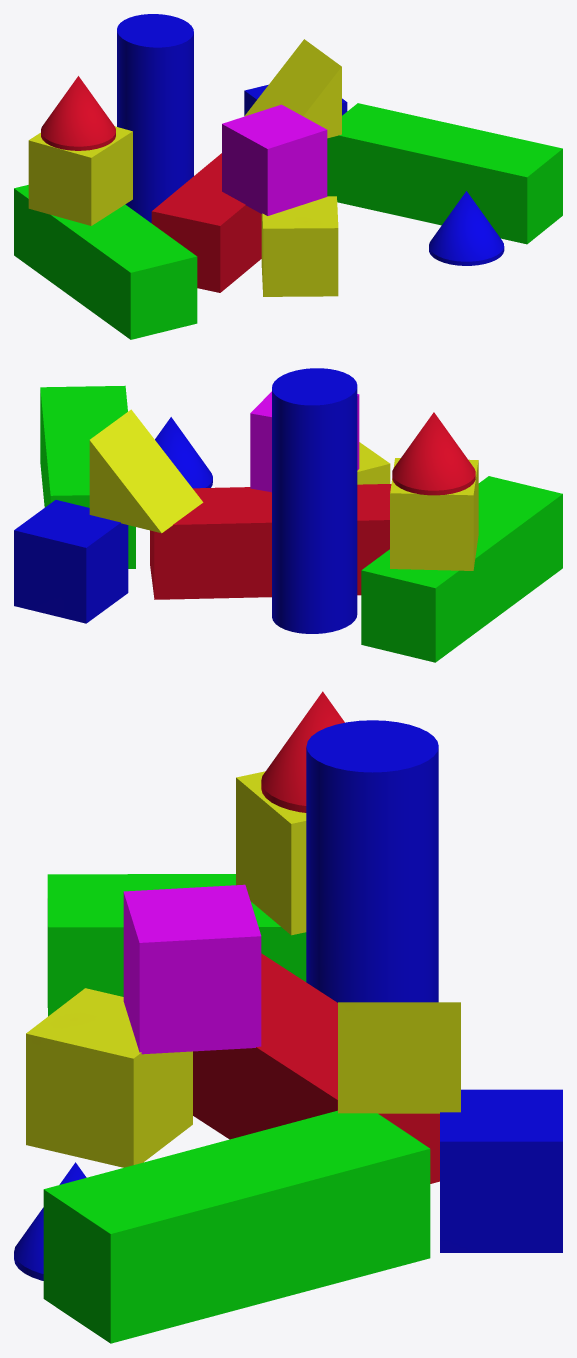
File: Blocks.fbx
3 views of the same model, one above another, from view 1: azimuth 30°, elevation 25°; view 2: azimuth 150°, elevation 25°; view 3: azimuth 270°, elevation 25° (orthographic). The views are drawn at different scales.
Parts seen in each view (by area): view 1: Blocks :D; view 2: Blocks :D; view 3: Blocks :D.
Part boxes in pixels (<box>): Blocks :D: <box>14,14,562,339</box>; Blocks :D: <box>14,368,562,662</box>; Blocks :D: <box>14,691,562,1343</box>.
Bounding box in the file's own units: 88.37 × 37.74 × 55.65.
Materials: 1 (1 with a texture image).
